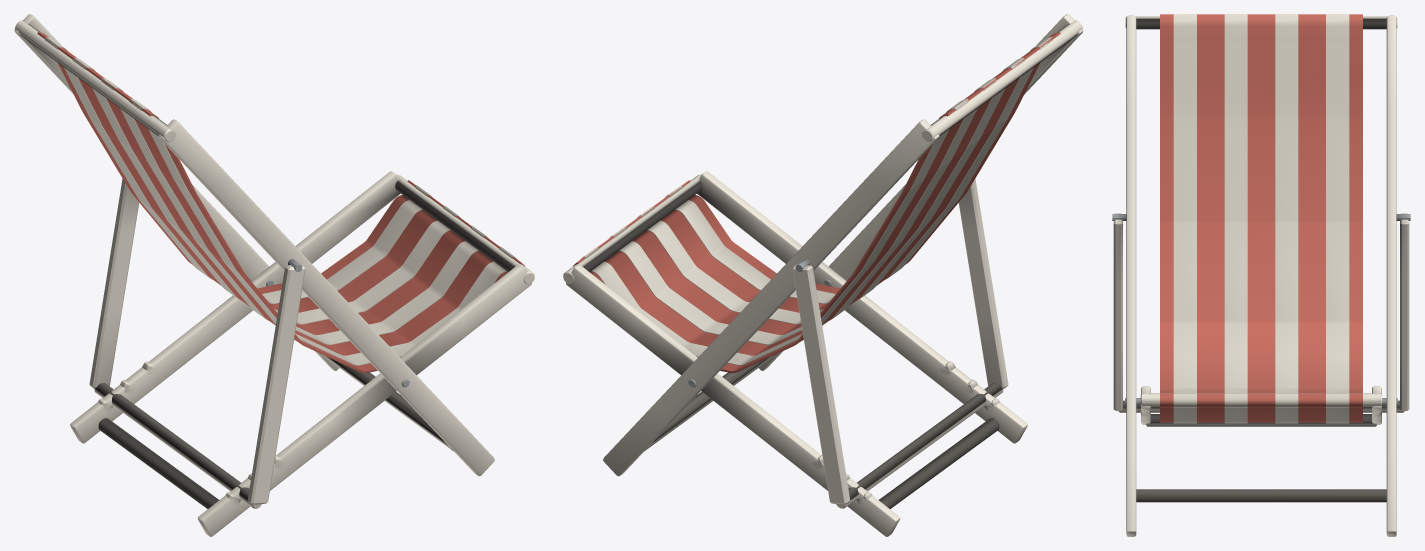
File: junk_sunchair.glb
The picture shows the model from 3 angles, left to right: view 1: azimuth 30°, elevation 25°; view 2: azimuth 150°, elevation 25°; view 3: azimuth 270°, elevation 25°; orthographic projection. The views are drawn at different scales.
Parts seen in each view (by area): view 1: PART; view 2: PART; view 3: PART.
Part boxes in pixels (<box>): PART: <box>14,14,534,536</box>; PART: <box>563,14,1083,536</box>; PART: <box>1112,14,1410,536</box>.
Bounding box in the file's own units: 0.8643 × 0.9322 × 0.646.
